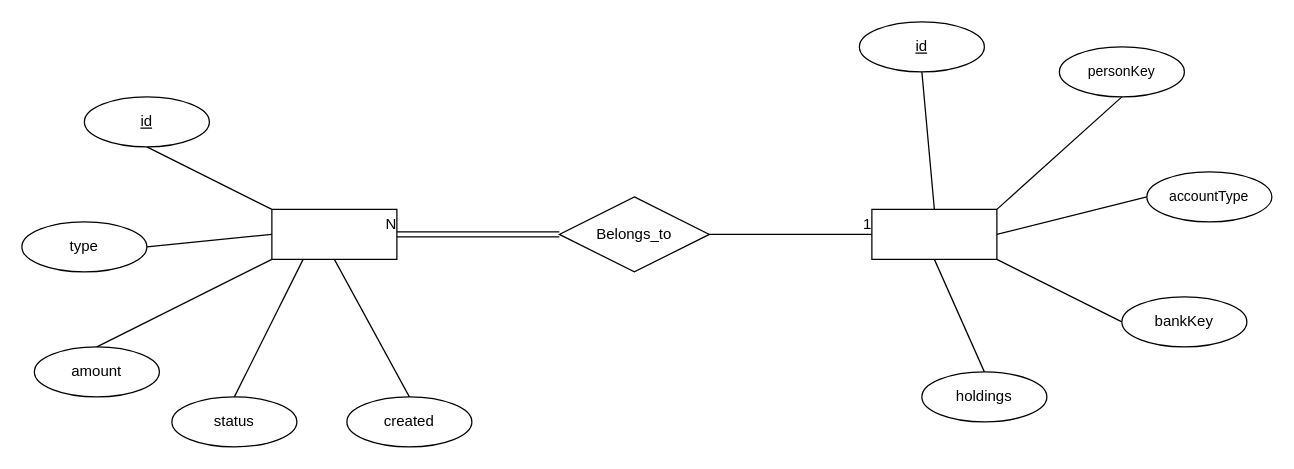
Some shapes in this 1294 by 469 pixel diagram are drawn without their labels. Here are the shapes that lost their labels. From the top down, the box of each, then its label:
(271, 208, 397, 259): Transaction
(871, 208, 997, 259): Account
